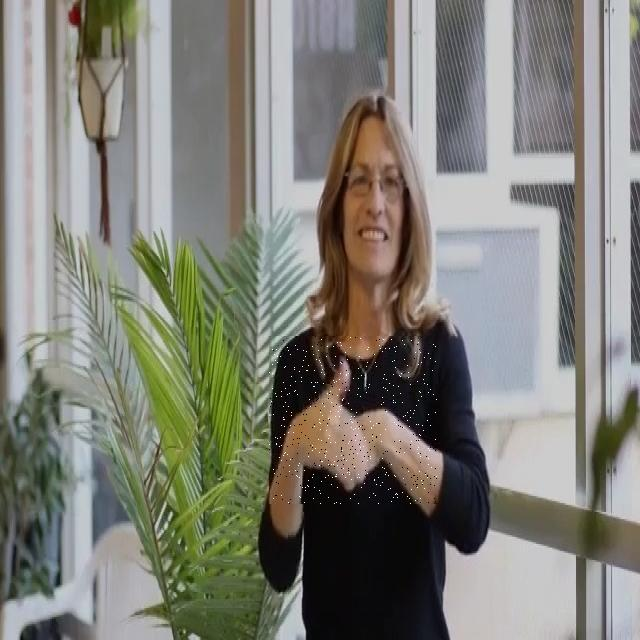bread: (270, 336, 438, 504)
